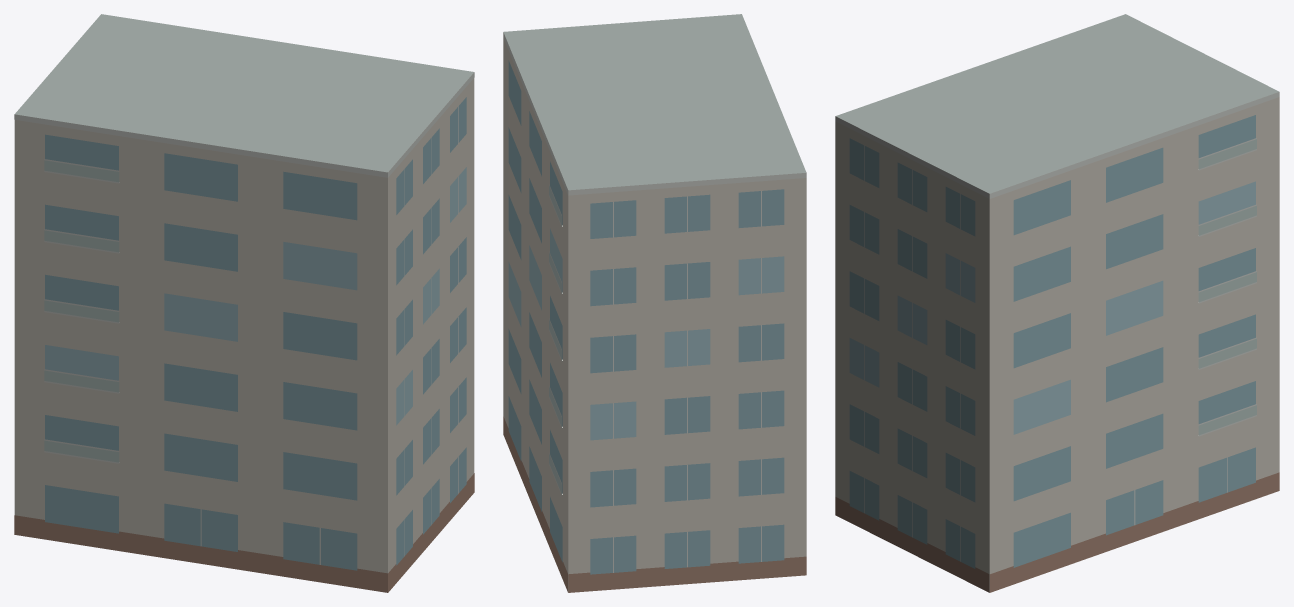
The model's file is survey-upis-32843988.glb.
The picture shows the model from 3 angles, left to right: view 1: azimuth 30°, elevation 25°; view 2: azimuth 150°, elevation 25°; view 3: azimuth 270°, elevation 25°; orthographic projection. The views are drawn at different scales.
Visible parts, largest first — view 1: survey-upis-32843988.tmp; view 2: survey-upis-32843988.tmp; view 3: survey-upis-32843988.tmp.
Boxes of the visible parts, box(x1,y1,x2,y2) form: survey-upis-32843988.tmp: box(14, 14, 474, 592); survey-upis-32843988.tmp: box(503, 14, 806, 592); survey-upis-32843988.tmp: box(835, 14, 1279, 592).
Bounding box in the file's own units: 18.28 × 18.9 × 19.08.
